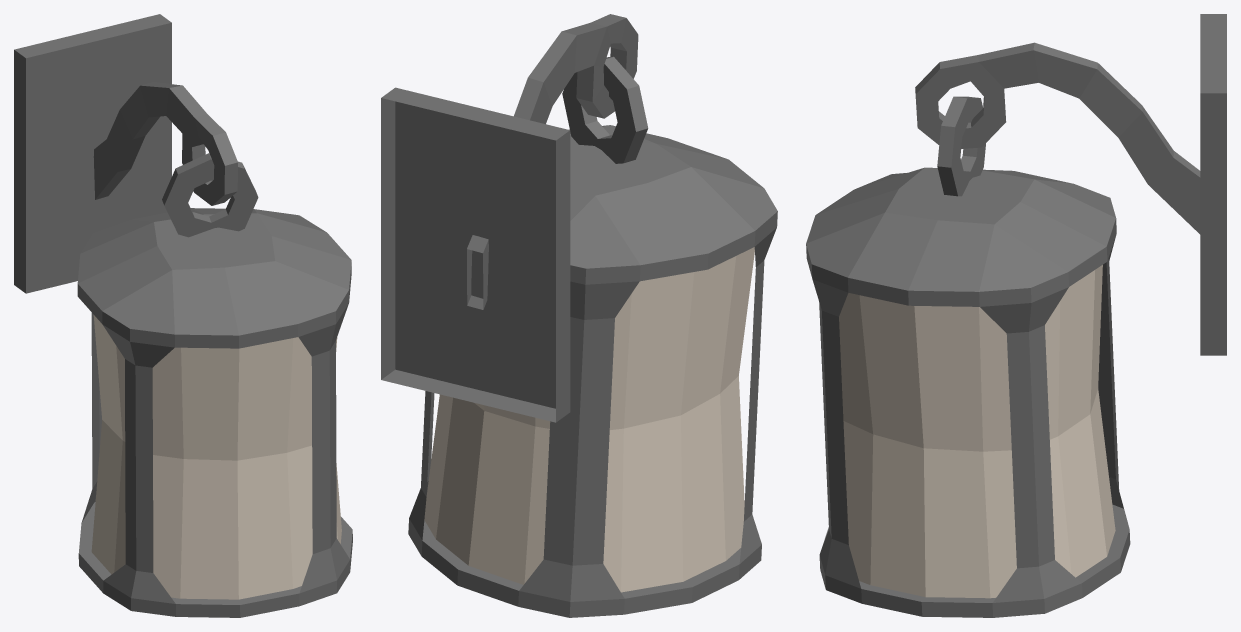
File: Lamp.fbx
3 renders of one model, left to right at view 1: azimuth 30°, elevation 25°; view 2: azimuth 150°, elevation 25°; view 3: azimuth 270°, elevation 25°, orthographic. The views are drawn at different scales.
Visible parts, largest first — view 1: lampNode4, lampNode5, lampNode1, lampNode2, lampNode3; view 2: lampNode5, lampNode1, lampNode4, lampNode2, lampNode3; view 3: lampNode4, lampNode5, lampNode2, lampNode1, lampNode3.
Part boxes in pixels (left/top/right/bottom): lampNode4: left=77, top=208, right=352, bottom=617; lampNode5: left=91, top=315, right=341, bottom=599; lampNode1: left=14, top=14, right=171, bottom=293; lampNode2: left=93, top=82, right=238, bottom=205; lampNode3: left=162, top=153, right=258, bottom=237; lampNode5: left=424, top=247, right=754, bottom=592; lampNode1: left=381, top=87, right=570, bottom=422; lampNode4: left=408, top=125, right=777, bottom=617; lampNode2: left=467, top=14, right=638, bottom=309; lampNode3: left=562, top=56, right=648, bottom=163; lampNode4: left=806, top=167, right=1130, bottom=617; lampNode5: left=839, top=265, right=1115, bottom=598; lampNode2: left=915, top=42, right=1200, bottom=234; lampNode1: left=1200, top=14, right=1226, bottom=355; lampNode3: left=937, top=96, right=985, bottom=196.
Size of the model in its own units: 0.4377 by 0.7702 by 0.5759.
